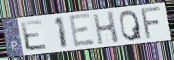1: (54, 16, 71, 50)
E: (67, 12, 97, 49), (19, 19, 49, 53)
F: (140, 5, 164, 41)
H: (91, 10, 121, 46)
Q: (119, 9, 144, 42)
